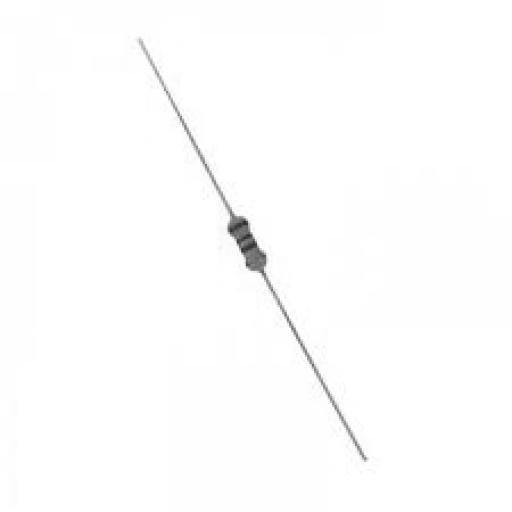RESISTOR: (170, 185, 314, 322)
